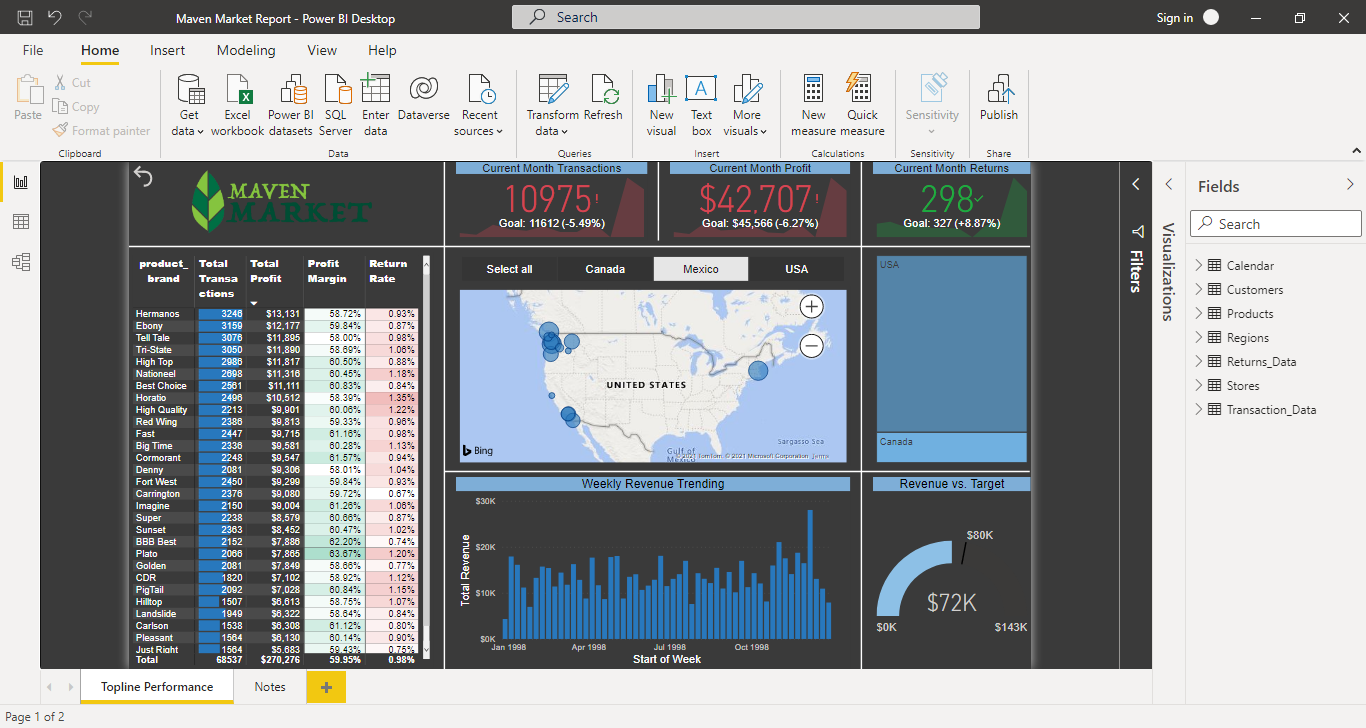

Layout of this report page (visuals, bound fields, positions):
{"tool":"powerbi","page":{"name":"Topline Performance","canvas":[1280,720],"ordinal":0},"visuals":[{"type":"shape","box":[0,0,1280,240],"z":0},{"type":"shape","box":[608,0,288,112],"z":1000},{"type":"shape","box":[896,0,288,720],"z":2000},{"type":"shape","box":[304,0,288,720],"z":3000},{"type":"image","box":[0,0,432,112],"z":4000},{"type":"pivotTable","fields":{"Rows":["Products.product_brand"],"Values":["Transaction_Data.Total Transactions","Transaction_Data.Total Profit","Transaction_Data.Profit Margin","Returns_Data.Return Rate"]},"box":[0,128,432,592],"z":5000},{"type":"kpi","title":"Current Month Profit","fields":{"TrendLine":["Calendar.Start of Month"],"Goal":["Transaction_Data.Last Month Profit"],"Indicator":["Transaction_Data.Total Profit"]},"box":[768,0,256,112],"z":6000},{"type":"kpi","title":"Current Month Returns","fields":{"TrendLine":["Calendar.Start of Month"],"Goal":["Returns_Data.Last Month Returns"],"Indicator":["Returns_Data.Total Returns"]},"box":[1056,0,224,112],"z":7000},{"type":"map","fields":{"Category":["Stores.store_city"],"Size":["Transaction_Data.Total Transactions"]},"box":[464,176,560,256],"z":8000},{"type":"slicer","fields":{"Values":["Stores.store_country"]},"box":[448,128,592,48],"z":9000},{"type":"treemap","fields":{"Group":["Stores.store_country","Stores.store_state","Stores.store_city"],"Values":["Transaction_Data.Total Transactions"]},"box":[1056,128,224,304],"z":10000},{"type":"columnChart","title":"Weekly Revenue Trending","fields":{"Y":["Transaction_Data.Total Revenue"],"Category":["Calendar.Start of Week"]},"box":[464,448,560,272],"z":11000},{"type":"gauge","title":"Revenue vs. Target","fields":{"Y":["Transaction_Data.Total Revenue"],"TargetValue":["Transaction_Data.Revenue Target"]},"box":[1056,448,224,272],"z":12000},{"type":"actionButton","box":[0,0,100,40],"z":13000},{"type":"shape","box":[448,320,832,240],"z":14000},{"type":"kpi","title":"Current Month Transactions","fields":{"TrendLine":["Calendar.Start of Month"],"Indicator":["Transaction_Data.Total Transactions"],"Goal":["Transaction_Data.Last Month Transactions"]},"box":[464,0,272,112],"z":15000}]}

Visuals, with their boxes on the page's 1280x720 design canvas (x1, y1, x2, y2). These are canvas units, not pixel positions in the 1366x728 screenshot, which may show the page scaled, cropped or inside an application window:
shape: detection(0, 0, 1280, 240)
shape: detection(608, 0, 896, 112)
shape: detection(896, 0, 1184, 720)
shape: detection(304, 0, 592, 720)
image: detection(0, 0, 432, 112)
pivotTable - Products.product_brand x Transaction_Data.Total Transactions: detection(0, 128, 432, 720)
"Current Month Profit" kpi: detection(768, 0, 1024, 112)
"Current Month Returns" kpi: detection(1056, 0, 1280, 112)
map - Stores.store_city x Transaction_Data.Total Transactions: detection(464, 176, 1024, 432)
slicer - Stores.store_country: detection(448, 128, 1040, 176)
treemap - Stores.store_country x Stores.store_state: detection(1056, 128, 1280, 432)
"Weekly Revenue Trending" columnChart: detection(464, 448, 1024, 720)
"Revenue vs. Target" gauge: detection(1056, 448, 1280, 720)
actionButton: detection(0, 0, 100, 40)
shape: detection(448, 320, 1280, 560)
"Current Month Transactions" kpi: detection(464, 0, 736, 112)
